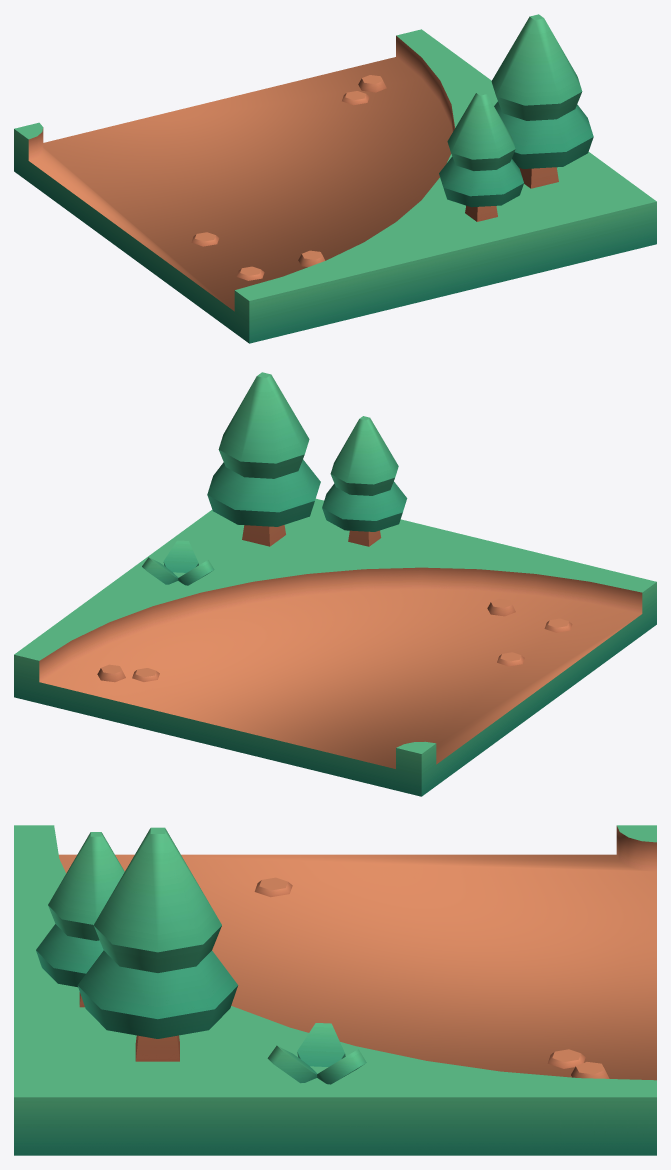
File: tile-wide-corner.glb
3 renders of one model, top to bottom at view 1: azimuth 30°, elevation 25°; view 2: azimuth 150°, elevation 25°; view 3: azimuth 270°, elevation 25°, orthographic. The views are drawn at different scales.
Visible parts, largest first — view 1: tile-wide-corner; view 2: tile-wide-corner; view 3: tile-wide-corner.
Boxes of the visible parts, x1,y1,x2,y2 form: tile-wide-corner: [14, 14, 656, 343]; tile-wide-corner: [14, 372, 656, 796]; tile-wide-corner: [14, 825, 656, 1155].
Size of the model in its own units: 2 by 0.96 by 2.
1 material, 1 textured.
